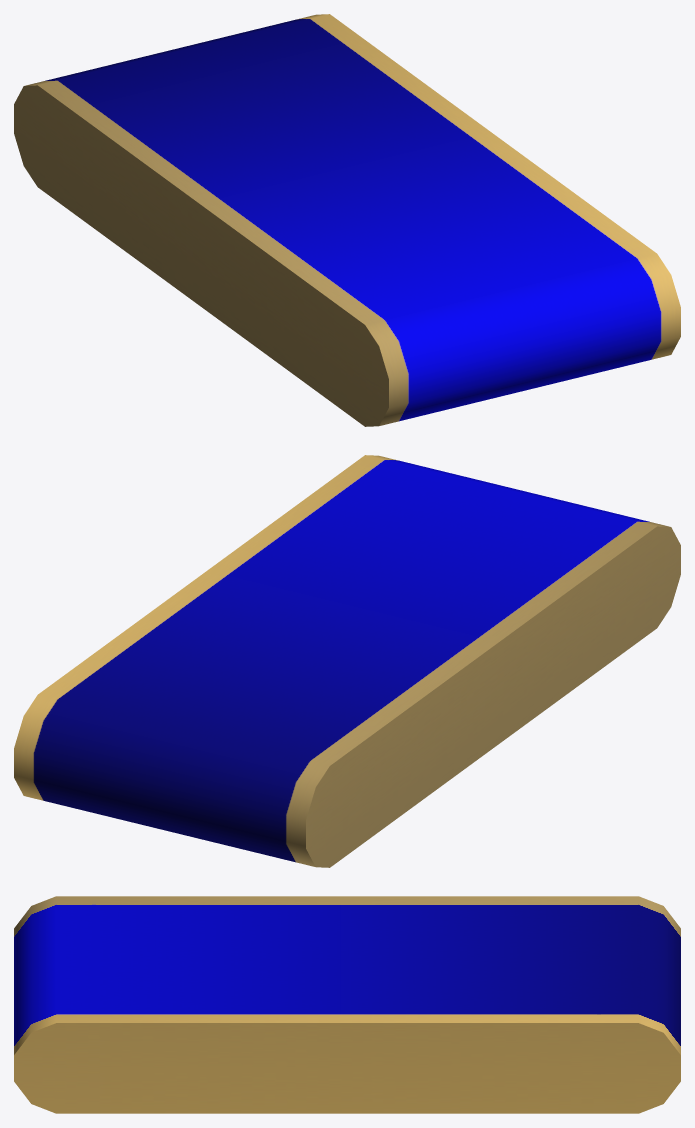
Rendered from conveyer0.glb.
3 views of the same model, one above another, from view 1: azimuth 30°, elevation 25°; view 2: azimuth 150°, elevation 25°; view 3: azimuth 270°, elevation 25° (orthographic). The views are drawn at different scales.
Parts seen in each view (by area): view 1: Conveyer0; view 2: Conveyer0; view 3: Conveyer0.
Boxes of the visible parts, x1=… form: Conveyer0: x1=14, y1=14, x2=680, y2=426; Conveyer0: x1=14, y1=455, x2=680, y2=867; Conveyer0: x1=14, y1=896, x2=680, y2=1113.
Bounding box in the file's own units: 0.9 × 0.3 × 2.
1 material, 1 textured.
